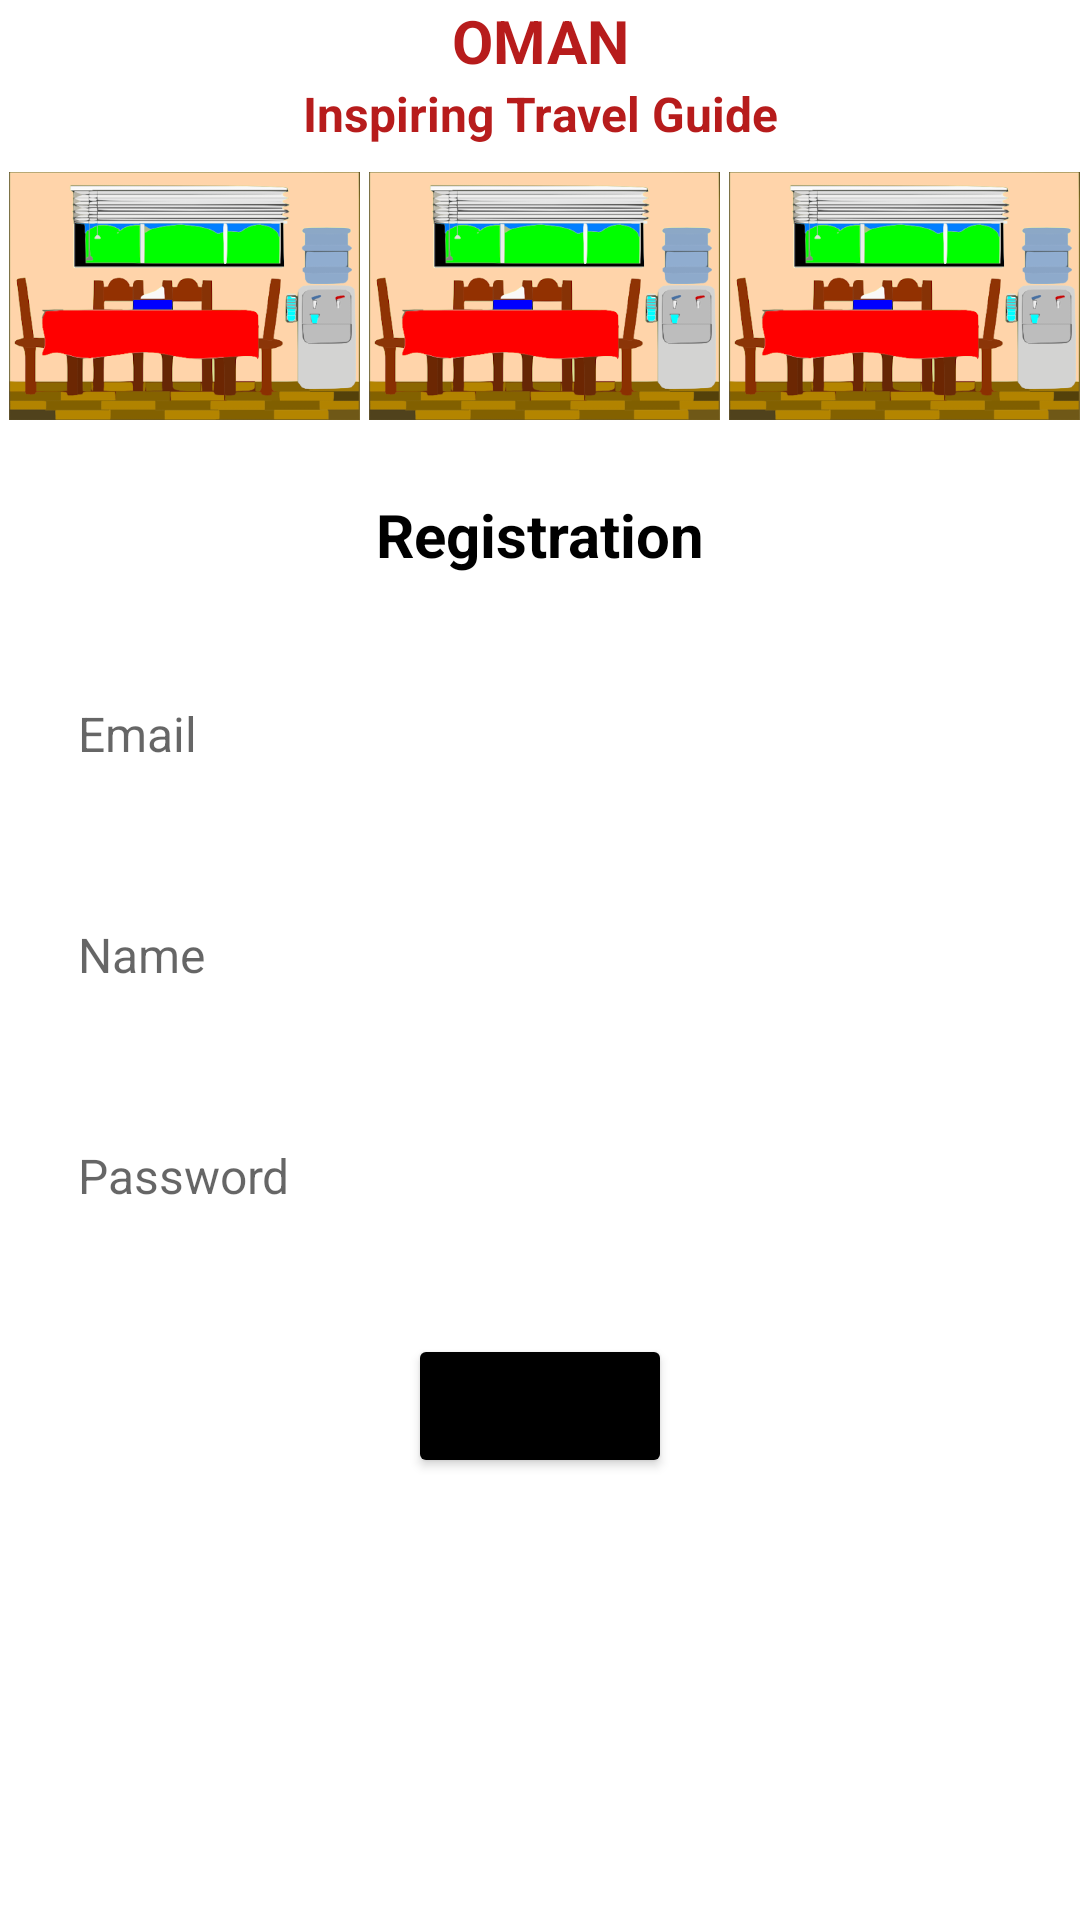

Screen size 1080 × 1920. Icon name, then its center in pixels as point (x, y):
room: point (184, 296), point (544, 296), point (904, 296)
